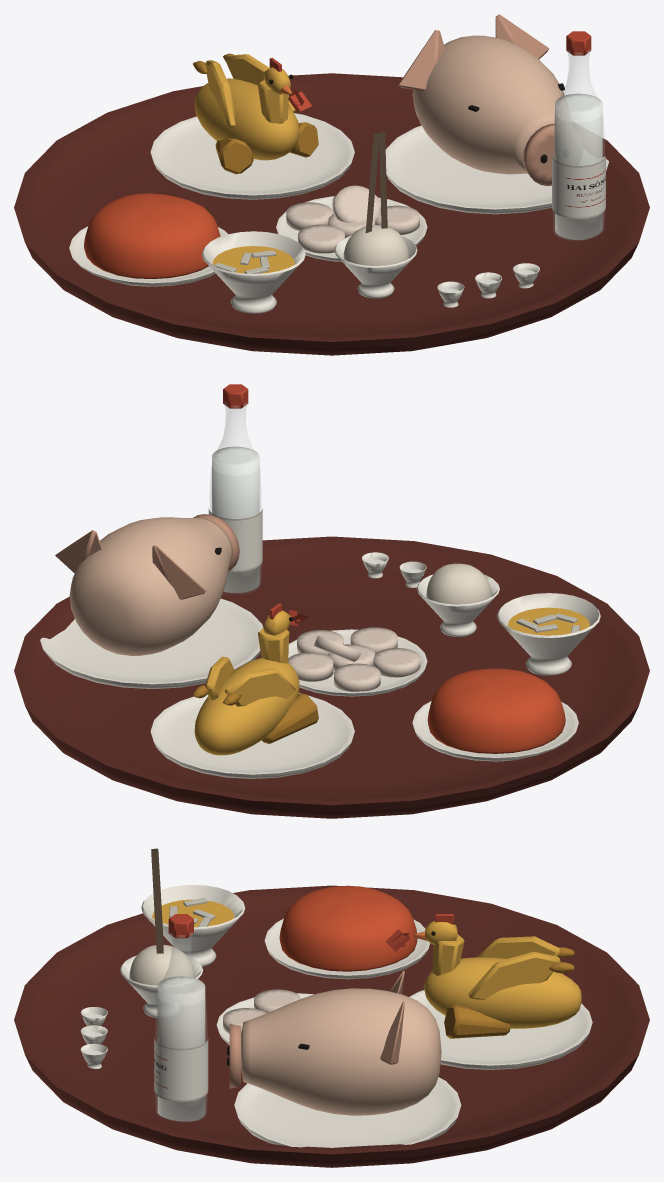
Rendered from MamDoCungMan.glb.
3 renders of one model, top to bottom at view 1: azimuth 30°, elevation 25°; view 2: azimuth 150°, elevation 25°; view 3: azimuth 270°, elevation 25°, orthographic.
Visible parts, largest first — view 1: MamDoCungMan; view 2: MamDoCungMan; view 3: MamDoCungMan.
Part boxes in pixels (x1,y1,x2,y2): MamDoCungMan: (14, 14, 649, 355); MamDoCungMan: (14, 384, 649, 818); MamDoCungMan: (14, 848, 649, 1167).
Bounding box in the file's own units: 0.8025 × 0.2994 × 0.8025.
Materials: 19 (1 with a texture image).
